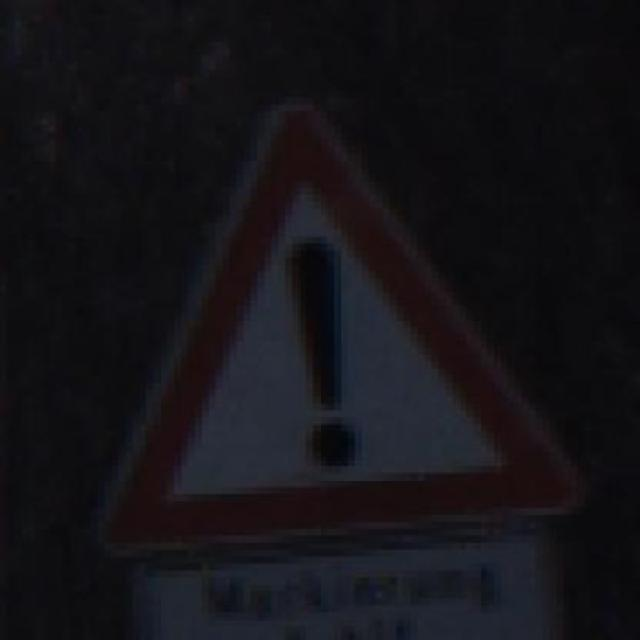Attention Please-: (70, 91, 598, 557)
